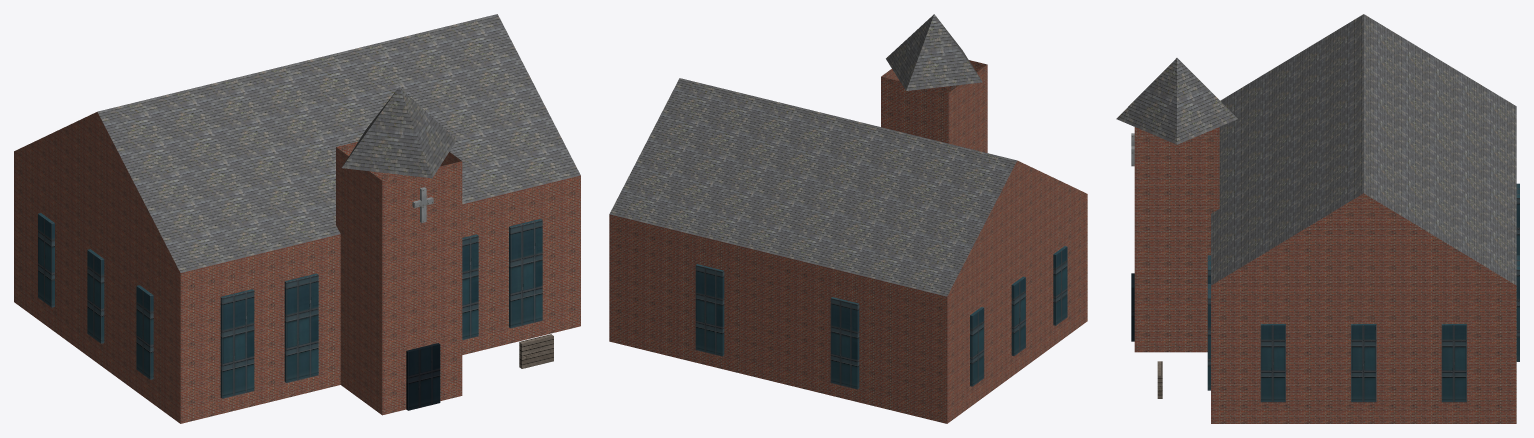
The model's file is suburban-church_lod0.gltf.
The picture shows the model from 3 angles, left to right: view 1: azimuth 30°, elevation 25°; view 2: azimuth 150°, elevation 25°; view 3: azimuth 270°, elevation 25°; orthographic projection. The views are drawn at different scales.
Parts seen in each view (by area): view 1: suburban-church_roof, suburban-church_nave, suburban-church_tower, suburban-church_fen_07-glass-curtain-blue_0, suburban-church_gable_ends, suburban-church_spire, suburban-church__tower_door, suburban-church__sign_board; view 2: suburban-church_nave, suburban-church_roof, suburban-church_fen_07-glass-curtain-blue_0, suburban-church_tower, suburban-church_gable_ends, suburban-church_spire; view 3: suburban-church_roof, suburban-church_nave, suburban-church_tower, suburban-church_gable_ends, suburban-church_fen_07-glass-curtain-blue_0, suburban-church_spire.
Boxes of the visible parts, x1,y1,x2,y2 form: suburban-church_roof: [97, 14, 580, 272]; suburban-church_nave: [14, 151, 580, 423]; suburban-church_tower: [336, 141, 462, 415]; suburban-church_fen_07-glass-curtain-blue_0: [38, 213, 542, 398]; suburban-church_gable_ends: [14, 112, 180, 272]; suburban-church_spire: [342, 87, 456, 178]; suburban-church__tower_door: [406, 343, 440, 410]; suburban-church__sign_board: [519, 334, 553, 368]; suburban-church_nave: [609, 194, 1087, 423]; suburban-church_roof: [609, 78, 1017, 296]; suburban-church_fen_07-glass-curtain-blue_0: [695, 246, 1067, 389]; suburban-church_tower: [881, 60, 987, 152]; suburban-church_gable_ends: [947, 160, 1086, 296]; suburban-church_spire: [886, 14, 982, 90]; suburban-church_roof: [1211, 14, 1516, 285]; suburban-church_nave: [1211, 285, 1516, 423]; suburban-church_tower: [1134, 127, 1219, 352]; suburban-church_gable_ends: [1211, 193, 1515, 285]; suburban-church_fen_07-glass-curtain-blue_0: [1207, 183, 1519, 402]; suburban-church_spire: [1116, 58, 1237, 144].
Bounding box in the file's own units: 25.4 × 18 × 23.8.
